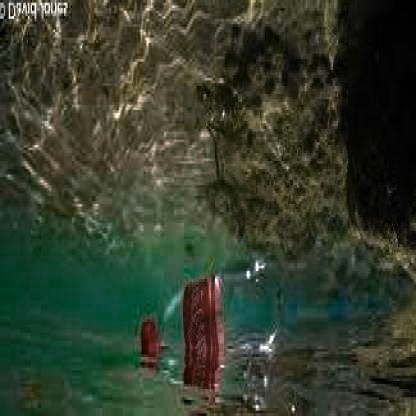pbottle: (129, 260, 294, 378)
